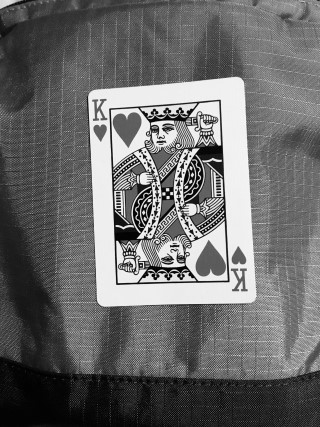KingOfHearts: (89, 76, 258, 306)
